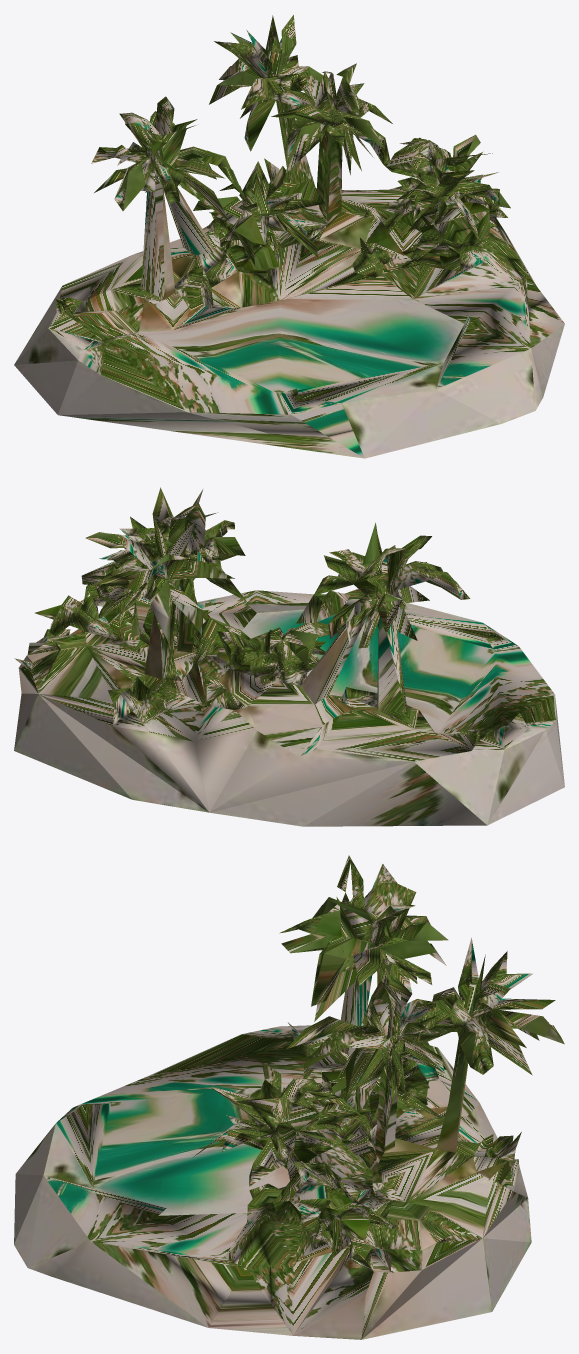
The model's file is tropical_palm_island.glb.
The picture shows the model from 3 angles, top to bottom: view 1: azimuth 30°, elevation 25°; view 2: azimuth 150°, elevation 25°; view 3: azimuth 270°, elevation 25°; orthographic projection. The views are drawn at different scales.
Visible parts, largest first — view 1: textured; view 2: textured; view 3: textured.
Part boxes in pixels (x1=…): textured: x1=14, y1=15, x2=564, y2=458; textured: x1=14, y1=487, x2=564, y2=826; textured: x1=14, y1=855, x2=564, y2=1339.
Bounding box in the file's own units: 1.96 × 0.9894 × 1.71.
Materials: 1 (1 with a texture image).
